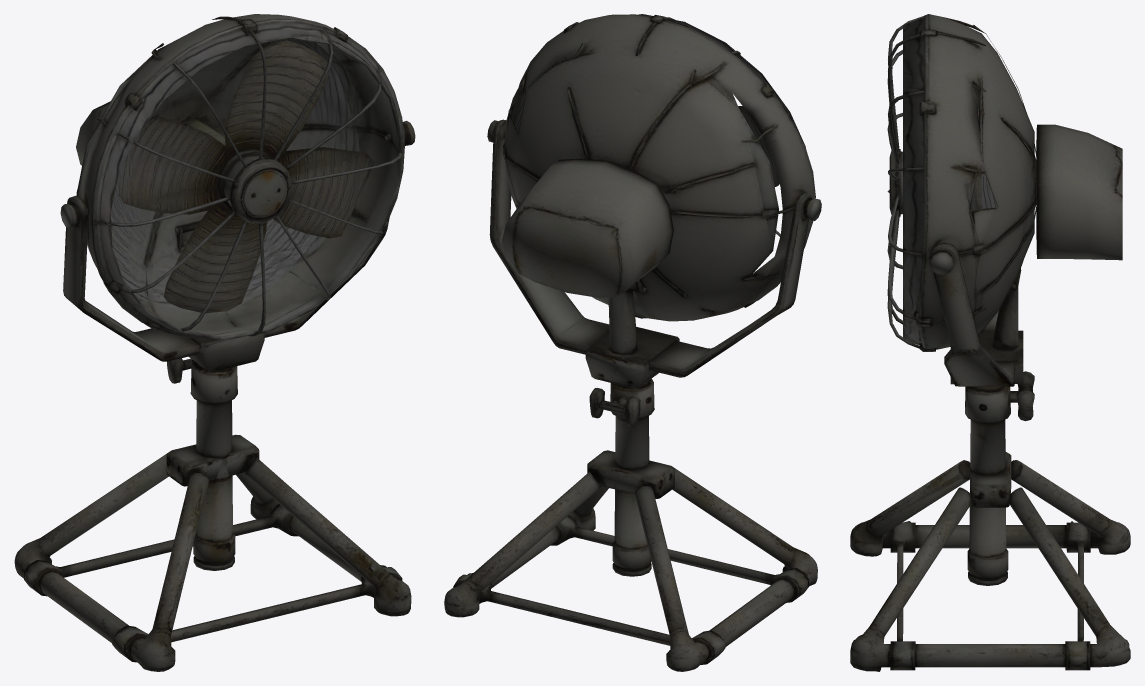
The model's file is selected.fbx.
3 views of the same model, side by side, from view 1: azimuth 30°, elevation 25°; view 2: azimuth 150°, elevation 25°; view 3: azimuth 270°, elevation 25° (orthographic). The views are drawn at different scales.
Visible parts, largest first — view 1: tripo_node_293adeb4-86e0-40be-ae14-b7a8fd79574e; view 2: tripo_node_293adeb4-86e0-40be-ae14-b7a8fd79574e; view 3: tripo_node_293adeb4-86e0-40be-ae14-b7a8fd79574e.
Boxes of the visible parts, x1=… form: tripo_node_293adeb4-86e0-40be-ae14-b7a8fd79574e: x1=14, y1=14, x2=415, y2=671; tripo_node_293adeb4-86e0-40be-ae14-b7a8fd79574e: x1=444, y1=14, x2=821, y2=671; tripo_node_293adeb4-86e0-40be-ae14-b7a8fd79574e: x1=850, y1=14, x2=1130, y2=671.
Bounding box in the file's own units: 0.6021 × 0.9995 × 0.438.
1 material, 1 textured.
